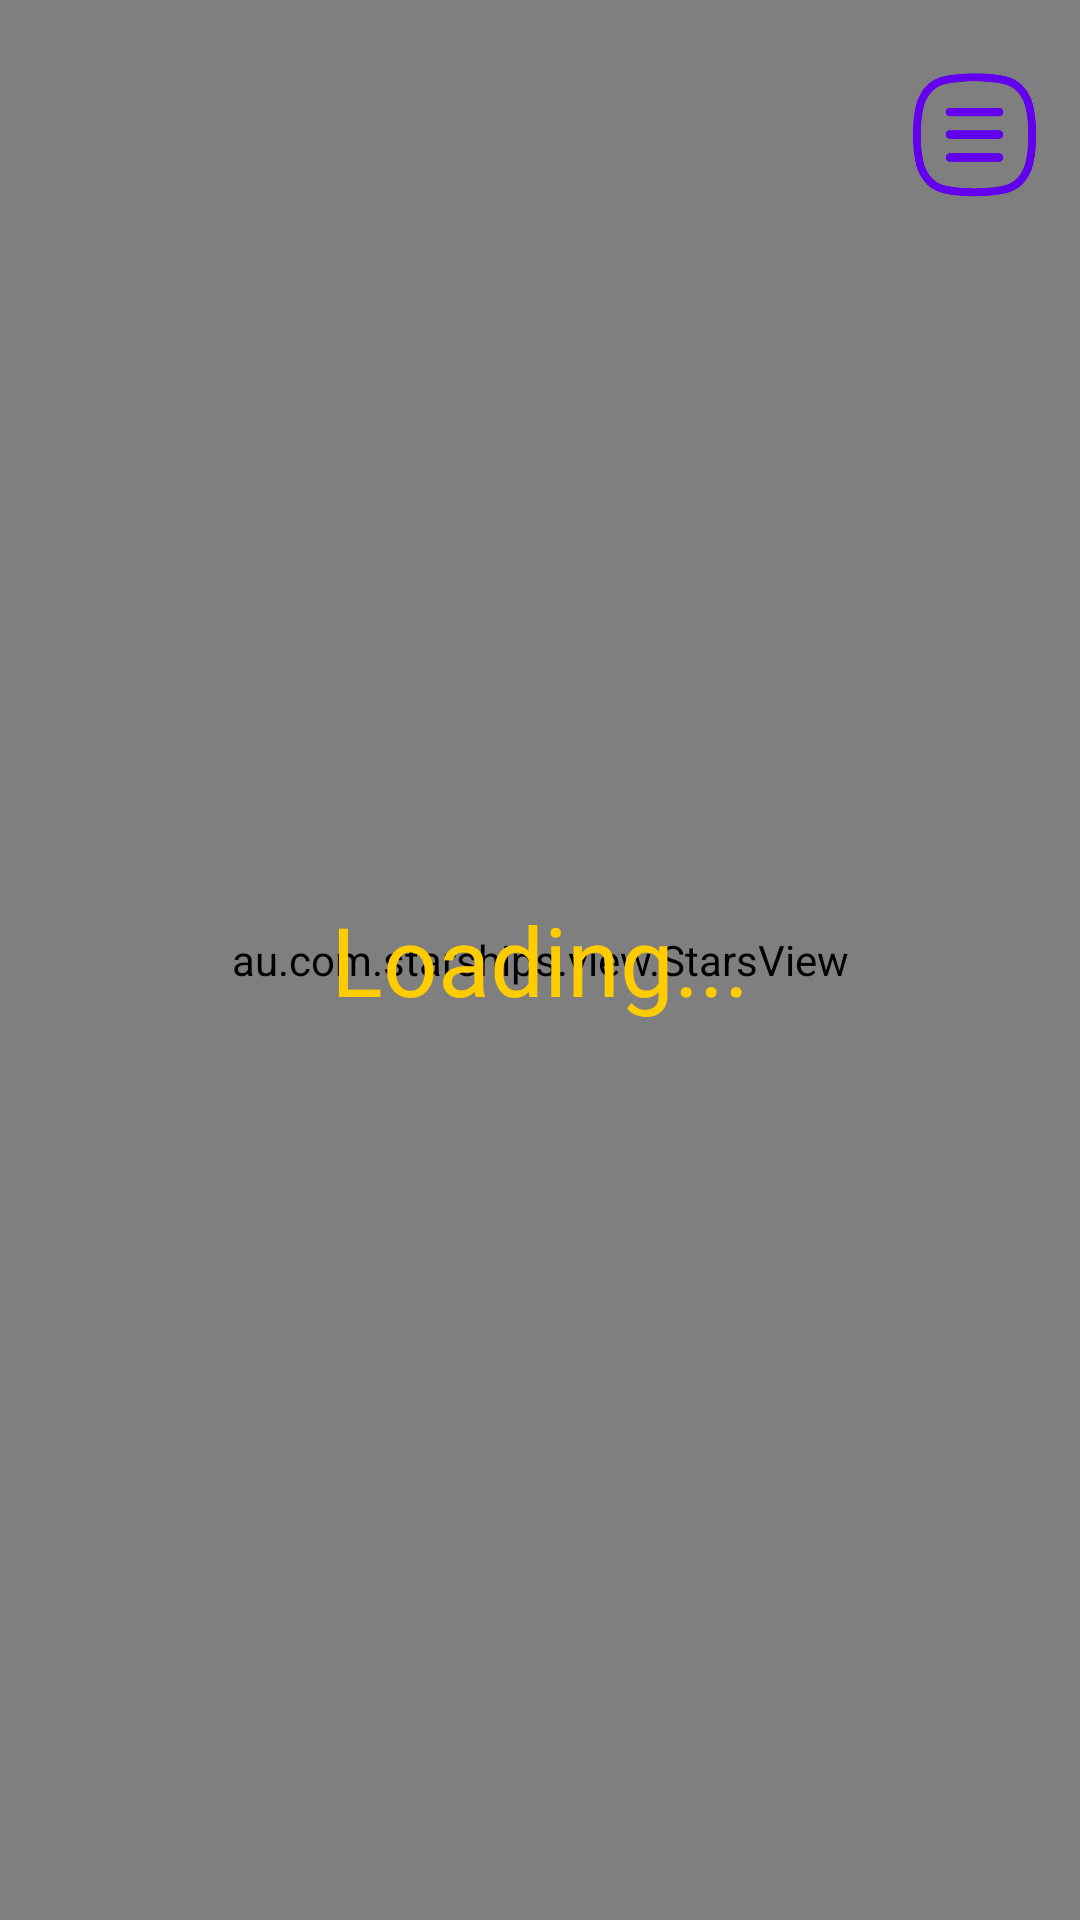

Point at icon controls on the screen. Image size 1080px×1920px, points as [x,y].
ham menu: [974,135]
